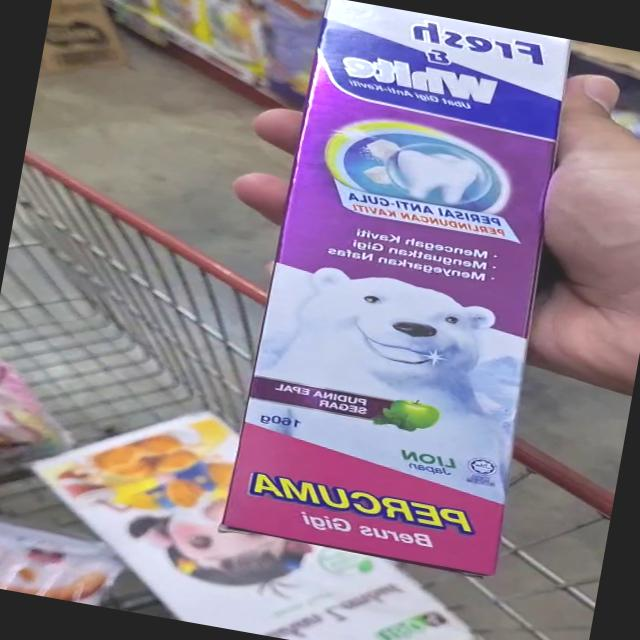Tisu: (156, 529, 500, 640), (22, 394, 218, 565)
Ubat Gigi: (211, 220, 572, 582), (252, 0, 589, 322)
